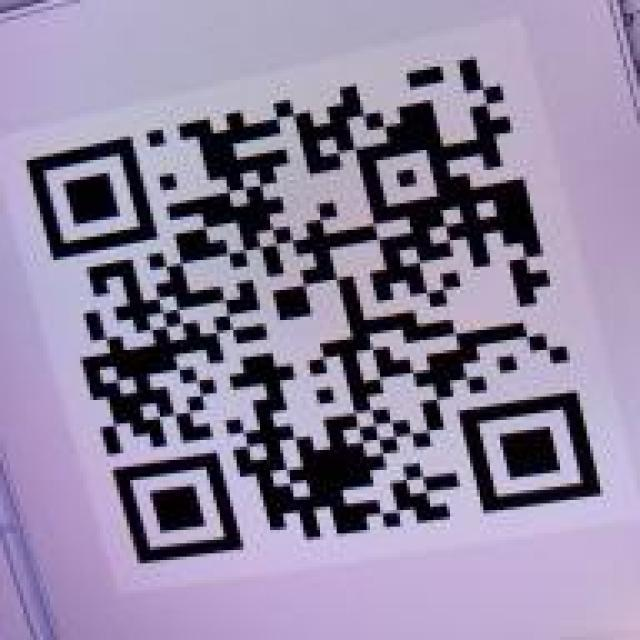qr_code: (23, 53, 604, 567)
